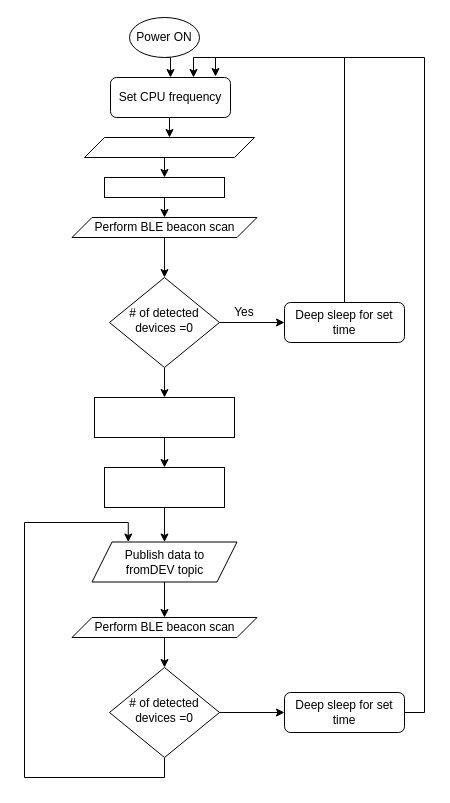
This 450x803 diagram has some shape labels left out. Each missing label, with the box of its shape:
Connect to MQTT broker: (104, 466, 224, 508)
Initialize BLE: (104, 176, 224, 198)
Initialize WiFi and connect to access point: (94, 396, 234, 438)
Print Wakeup reason: (84, 136, 254, 158)
